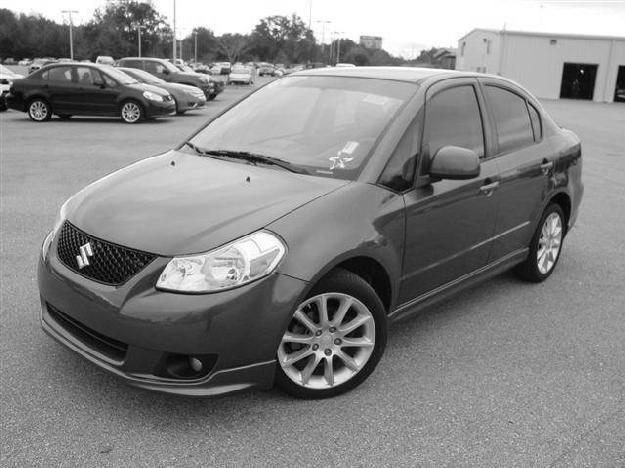car: (37, 67, 586, 401)
